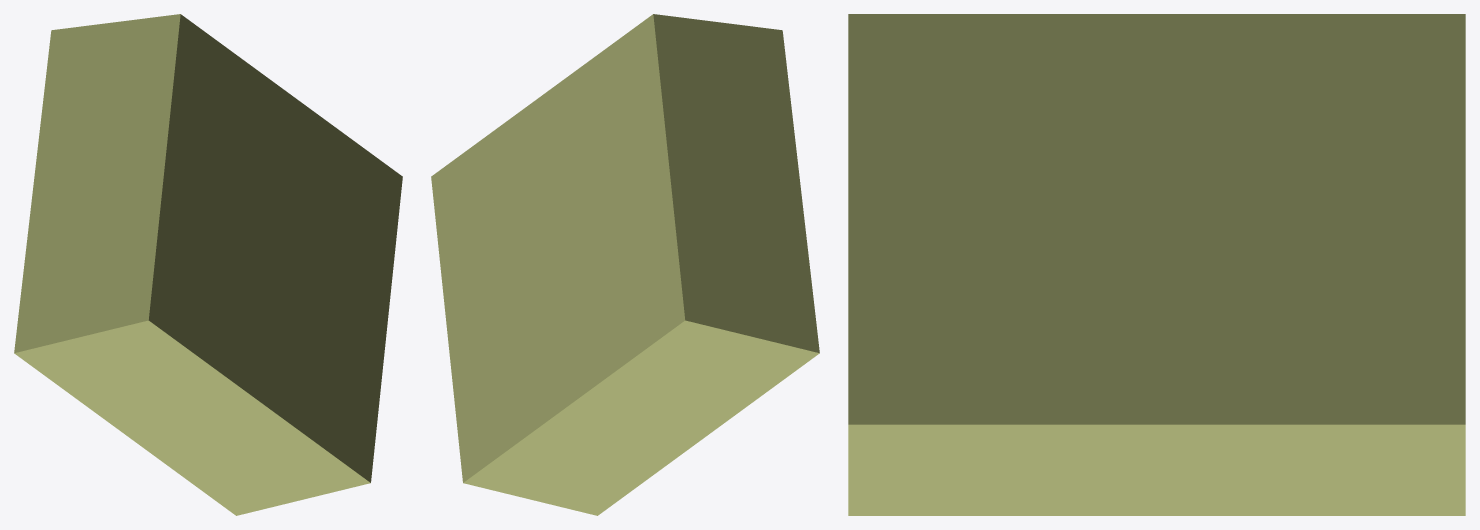
The picture shows the model from 3 angles, left to right: view 1: azimuth 30°, elevation 25°; view 2: azimuth 150°, elevation 25°; view 3: azimuth 270°, elevation 25°; orthographic projection. The views are drawn at different scales.
Parts seen in each view (by area): view 1: 0_1_1_3_3_1_0_2_2_2_2_2; view 2: 0_1_1_3_3_1_0_2_2_2_2_2; view 3: 0_1_1_3_3_1_0_2_2_2_2_2.
Part boxes in pixels (box(x1,y1,x2,y2)): 0_1_1_3_3_1_0_2_2_2_2_2: box(14, 14, 402, 515); 0_1_1_3_3_1_0_2_2_2_2_2: box(431, 14, 819, 515); 0_1_1_3_3_1_0_2_2_2_2_2: box(848, 14, 1465, 515).
Size of the model in its own units: 2.6 by 4.68 by 6.
